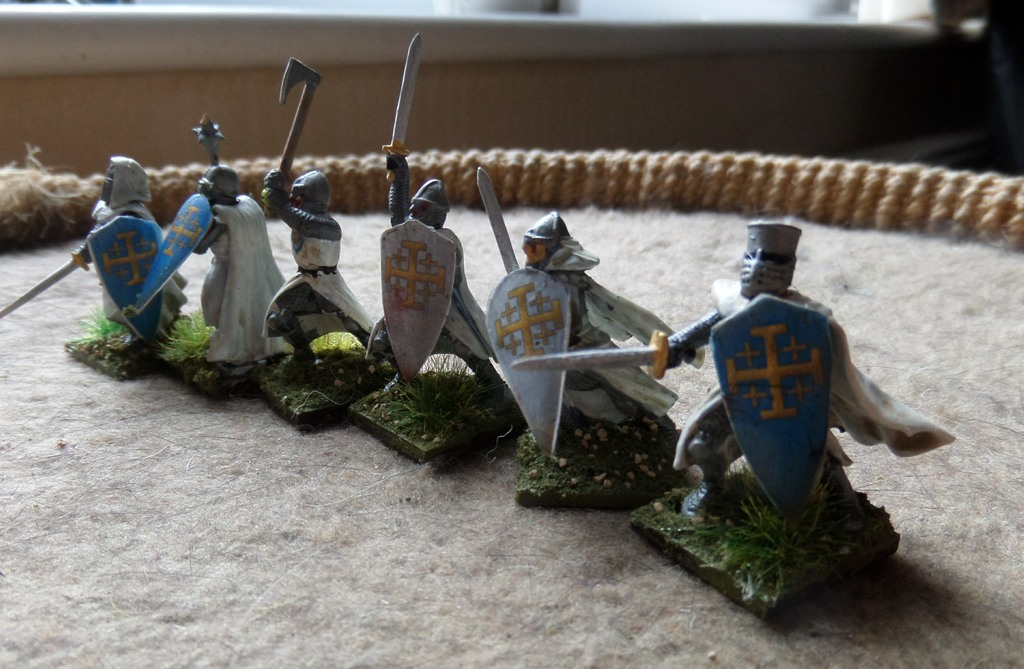person: (66, 154, 190, 372)
